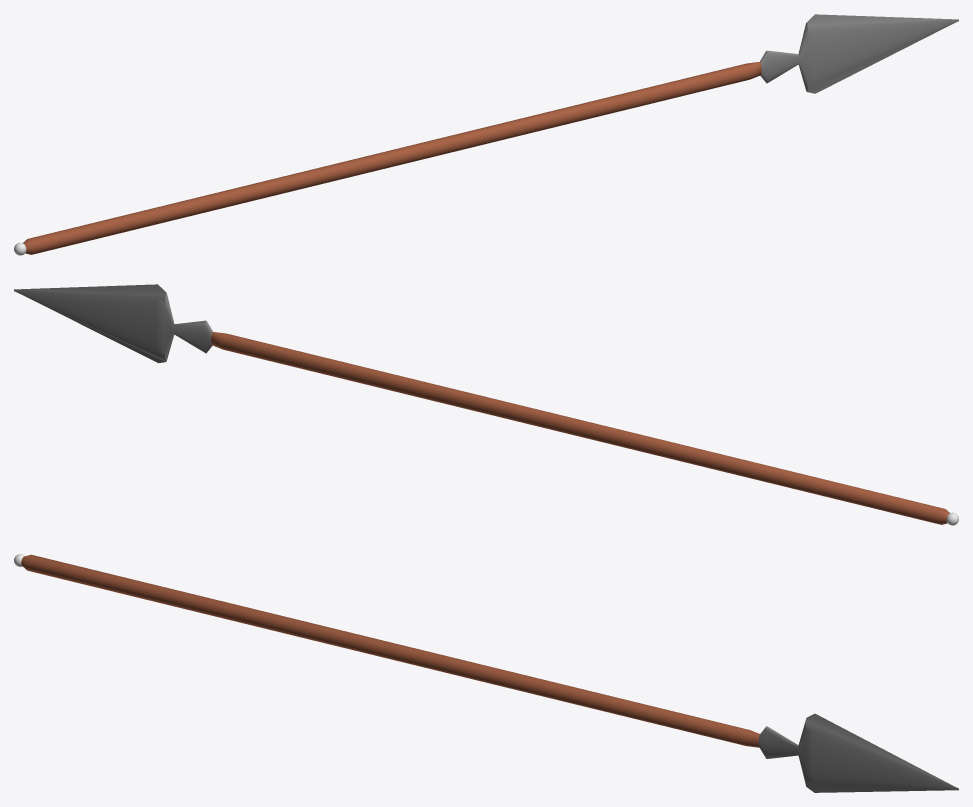
3 renders of one model, top to bottom at view 1: azimuth 30°, elevation 25°; view 2: azimuth 150°, elevation 25°; view 3: azimuth 330°, elevation 25°, orthographic.
Parts seen in each view (by area): view 1: Cylinder, Cylinder.001; view 2: Cylinder, Cylinder.001; view 3: Cylinder, Cylinder.001.
Part boxes in pixels (x1=…): Cylinder: x1=23, y1=62, x2=761, y2=254; Cylinder.001: x1=760, y1=14, x2=958, y2=93; Cylinder: x1=211, y1=332, x2=949, y2=524; Cylinder.001: x1=14, y1=284, x2=212, y2=363; Cylinder: x1=21, y1=554, x2=759, y2=747; Cylinder.001: x1=758, y1=713, x2=958, y2=792.
Size of the model in its own units: 986 by 79 by 15.
